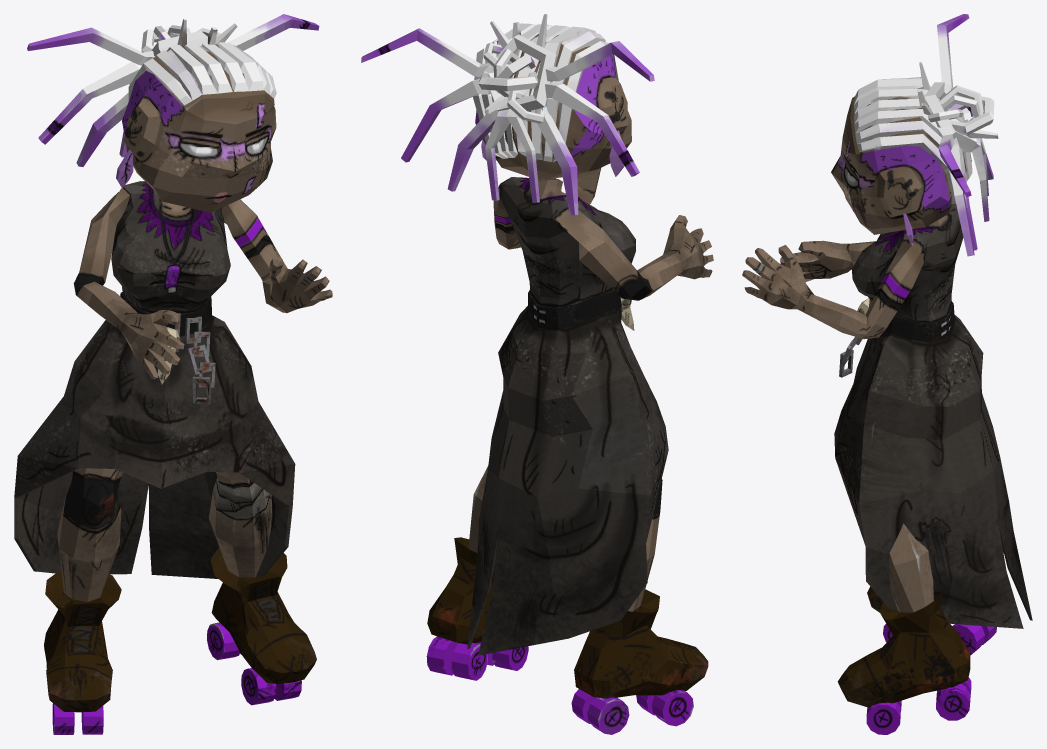
The model's file is bruja_000017.obj.
3 views of the same model, side by side, from view 1: azimuth 30°, elevation 25°; view 2: azimuth 150°, elevation 25°; view 3: azimuth 270°, elevation 25° (orthographic). The views are drawn at different scales.
Parts seen in each view (by area): view 1: Bruja_Plane.001; view 2: Bruja_Plane.001; view 3: Bruja_Plane.001.
Part boxes in pixels (left/top/right/bottom): Bruja_Plane.001: left=14, top=14, right=332, bottom=734; Bruja_Plane.001: left=361, top=14, right=713, bottom=734; Bruja_Plane.001: left=742, top=14, right=1032, bottom=734.
Size of the model in its own units: 7.77 by 16.53 by 6.86.
